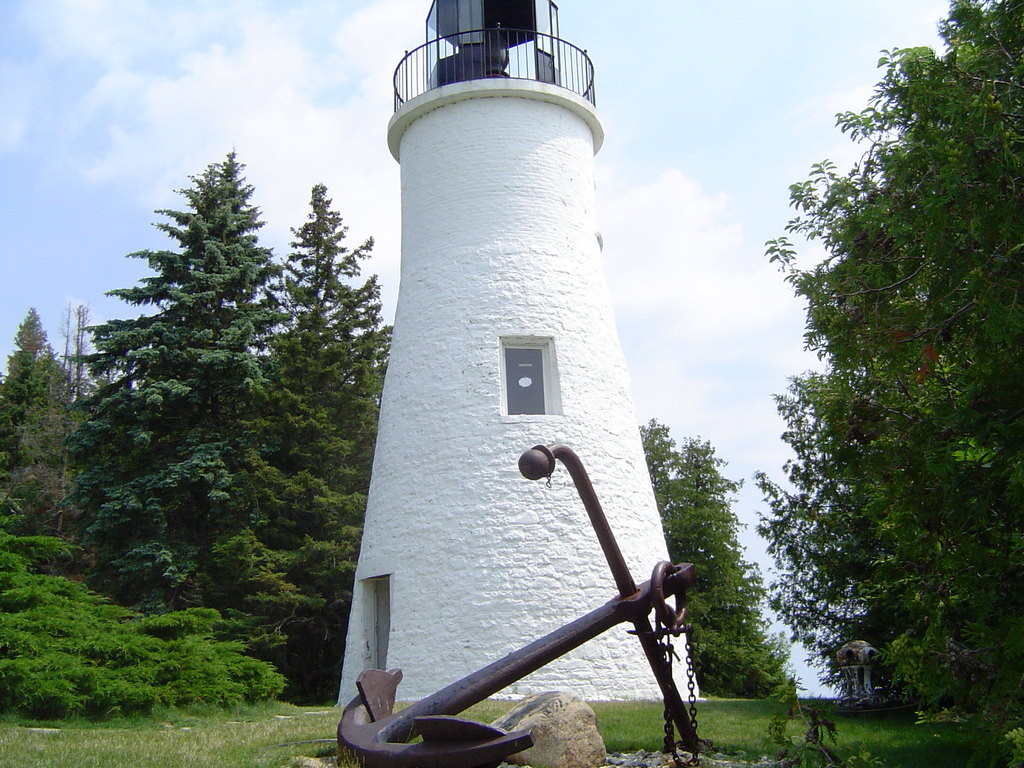Tree: (0, 148, 396, 700), (751, 0, 1024, 715), (637, 412, 805, 698)
